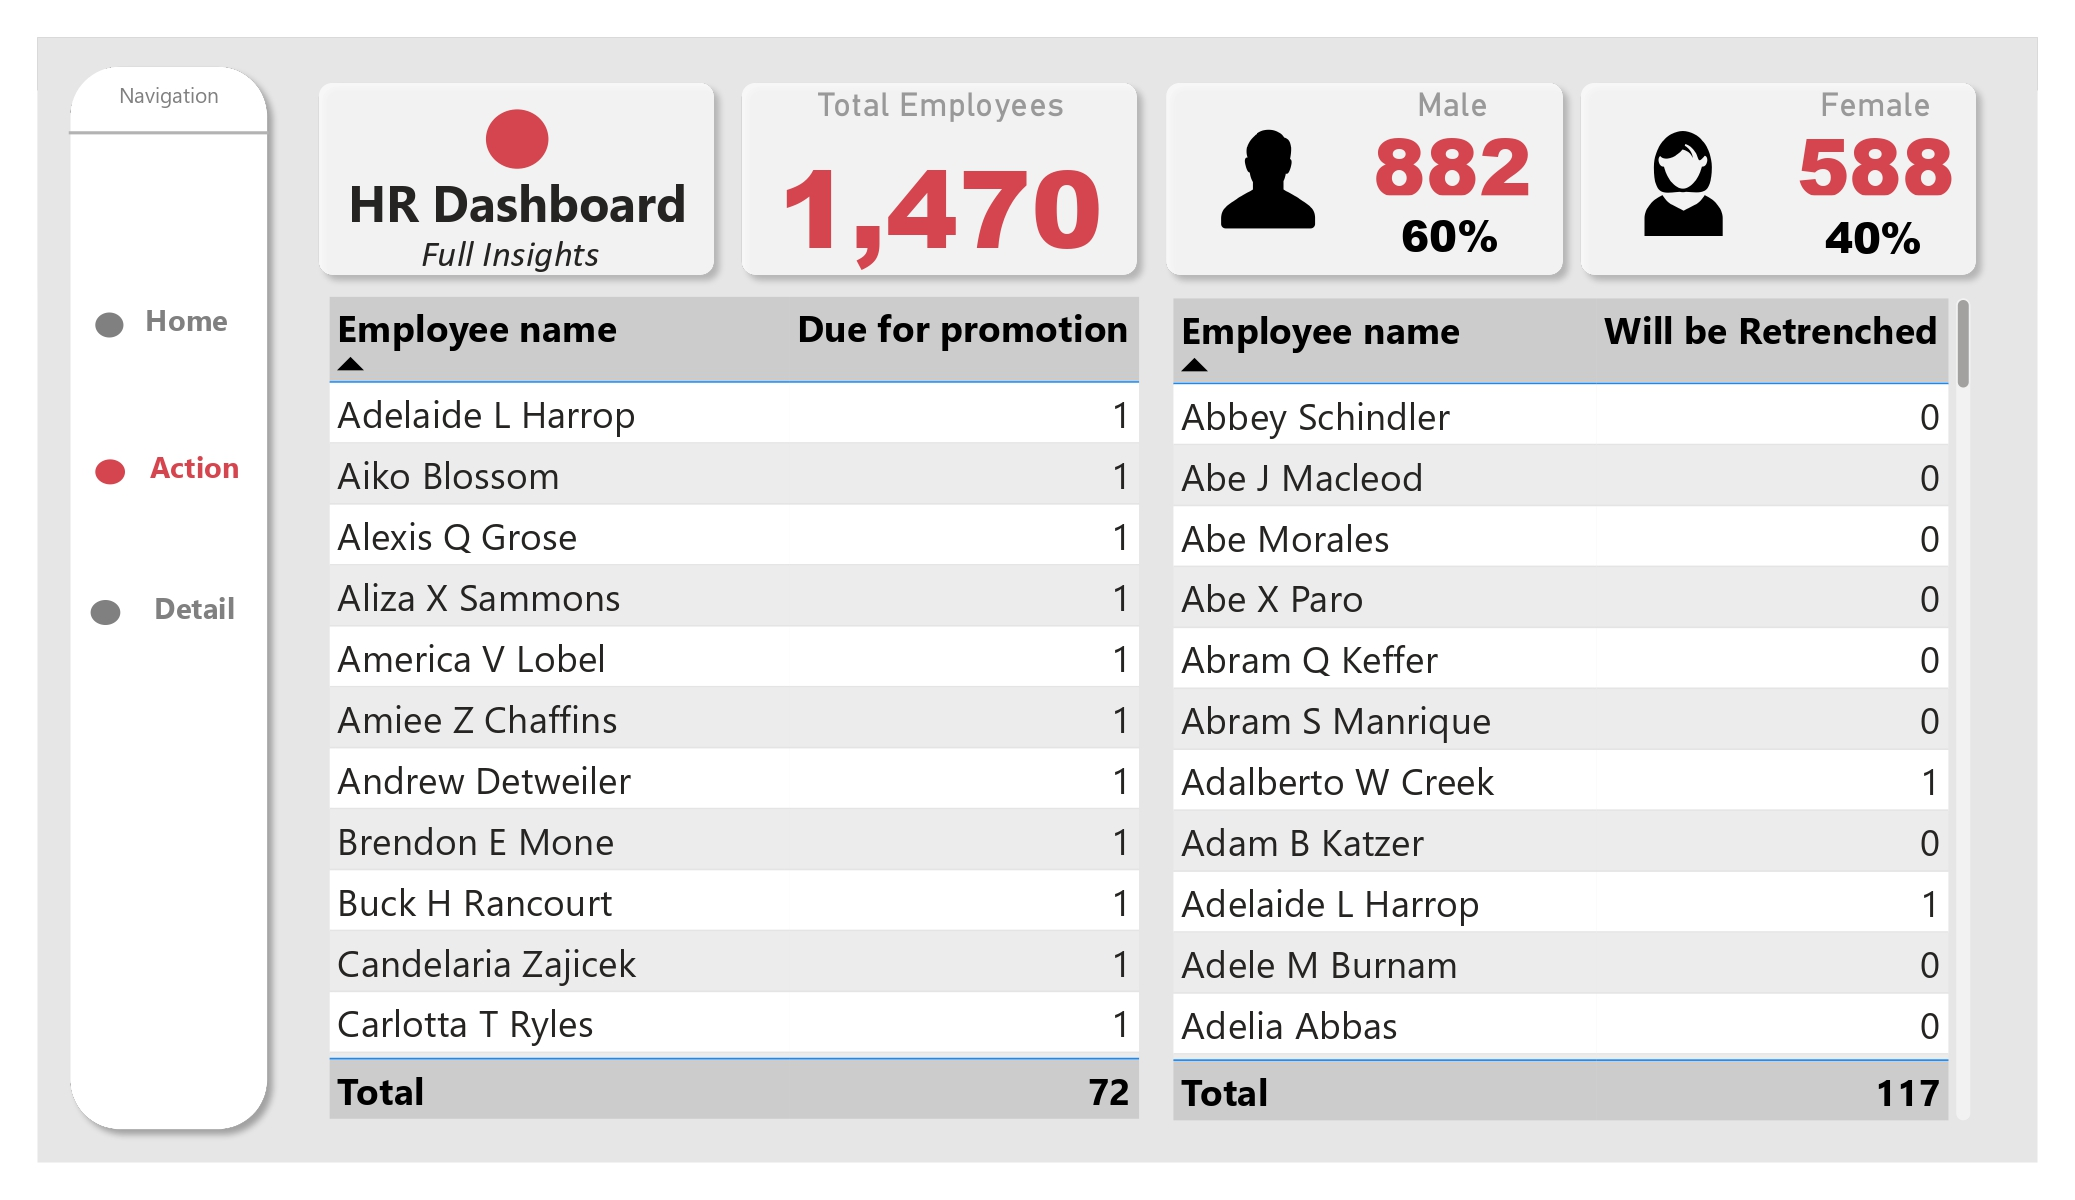

What the dashboard file says about the page in this screenshot:
{"tool":"powerbi","page":{"name":"Action","canvas":[1280,720],"ordinal":1},"visuals":[{"type":"shape","box":[171.2,20,271.1,141.3],"z":0},{"type":"shape","box":[11.6,10.3,144.5,698.1],"z":1000},{"type":"shape","box":[442.4,20,271.1,141.3],"z":2000},{"type":"shape","box":[713.5,20,271.1,141.3],"z":3000},{"type":"shape","box":[978.9,20,271.1,141.3],"z":4000},{"type":"textbox","box":[176.9,78.5,259.7,54.2],"z":5000},{"type":"textbox","box":[172.7,118.4,259.7,40],"z":6000},{"type":"shape","box":[286.8,45.7,40,38.5],"z":7000},{"type":"card","title":"Total Employees","fields":{"Values":["All Measures.Total Emp"]},"box":[455.2,30,245.4,124.1],"z":8000},{"type":"card","title":"Male","fields":{"Values":["All Measures.Male"]},"box":[839.1,30,132.7,75.6],"z":9000},{"type":"card","title":"Male","fields":{"Values":["All Measures.% Male"]},"box":[847.6,101.3,112.7,51.4],"z":10000},{"type":"card","title":"Female","fields":{"Values":["All Measures.Female"]},"box":[1110.2,30,132.7,75.6],"z":11000},{"type":"card","title":"Male","fields":{"Values":["All Measures.% Female"]},"box":[1119.4,103,111.9,50.7],"z":12000},{"type":"image","box":[736.3,57.1,102.7,67.1],"z":13000},{"type":"image","box":[997.5,59.9,112.7,67.1],"z":14000},{"type":"tableEx","fields":{"Values":["HR Analytics Data.Emplyee name","All Measures.Due for promotion"]},"box":[181.2,160.9,600,536.2],"z":15000},{"type":"tableEx","fields":{"Values":["HR Analytics Data.Emplyee name","All Measures.Will be Retreanched"]},"box":[721.2,161.5,521.2,536.5],"z":16000},{"type":"textbox","box":[19.5,23,128.7,46],"z":17000},{"type":"shape","box":[19.5,54,128.7,13.8],"z":18000},{"type":"actionButton","box":[19.5,160.9,128.7,44.8],"z":19000},{"type":"shape","box":[36.8,175.9,18.4,16.1],"z":20000},{"type":"textbox","box":[55.2,163.2,80.5,42.5],"z":21000},{"type":"textbox","box":[52.9,257.5,95.4,42.5],"z":22000},{"type":"shape","box":[36.7,269.6,19,16.5],"z":23000},{"type":"shape","box":[34.5,359.8,18.4,16.1],"z":24000},{"type":"textbox","box":[52.9,347.1,95.4,42.5],"z":25000},{"type":"actionButton","box":[19.5,344.8,128.7,44.8],"z":26000}]}

Visuals, with their boxes on the page's 1280x720 design canvas (x1, y1, x2, y2). These are canvas units, not pixel positions in the 2075x1200 screenshot, which may show the page scaled, cropped or inside an application window:
shape: 171:20:442:161
shape: 12:10:156:708
shape: 442:20:714:161
shape: 714:20:985:161
shape: 979:20:1250:161
textbox: 177:78:437:133
textbox: 173:118:432:158
shape: 287:46:327:84
"Total Employees" card: 455:30:701:154
"Male" card: 839:30:972:106
"Male" card: 848:101:960:153
"Female" card: 1110:30:1243:106
"Male" card: 1119:103:1231:154
image: 736:57:839:124
image: 998:60:1110:127
tableEx - HR Analytics Data.Emplyee name x All Measures.Due for promotion: 181:161:781:697
tableEx - HR Analytics Data.Emplyee name x All Measures.Will be Retreanched: 721:162:1242:698
textbox: 20:23:148:69
shape: 20:54:148:68
actionButton: 20:161:148:206
shape: 37:176:55:192
textbox: 55:163:136:206
textbox: 53:258:148:300
shape: 37:270:56:286
shape: 34:360:53:376
textbox: 53:347:148:390
actionButton: 20:345:148:390
